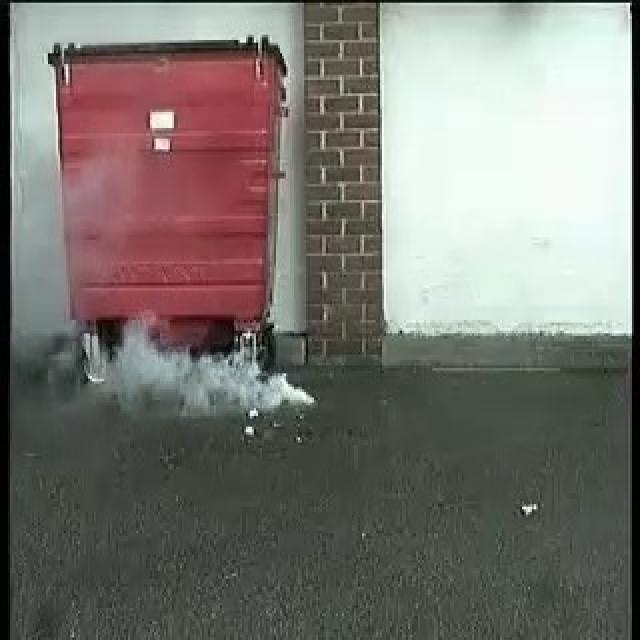smoke: (94, 322, 320, 412)
